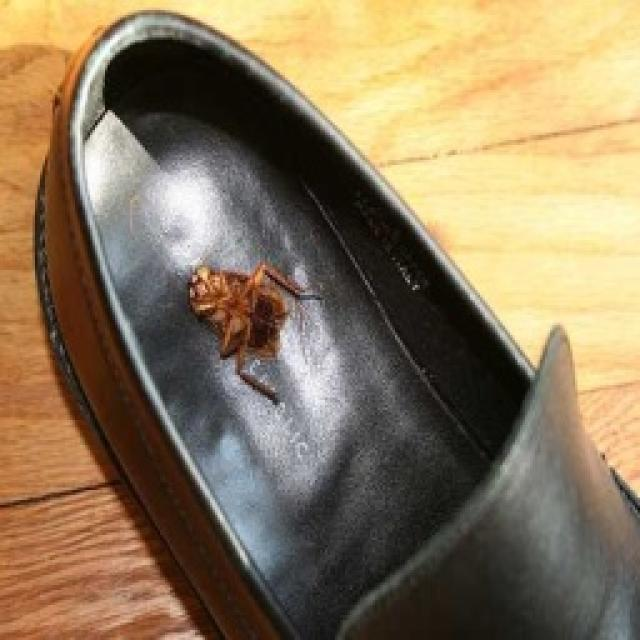cockroach: (182, 255, 325, 408)
